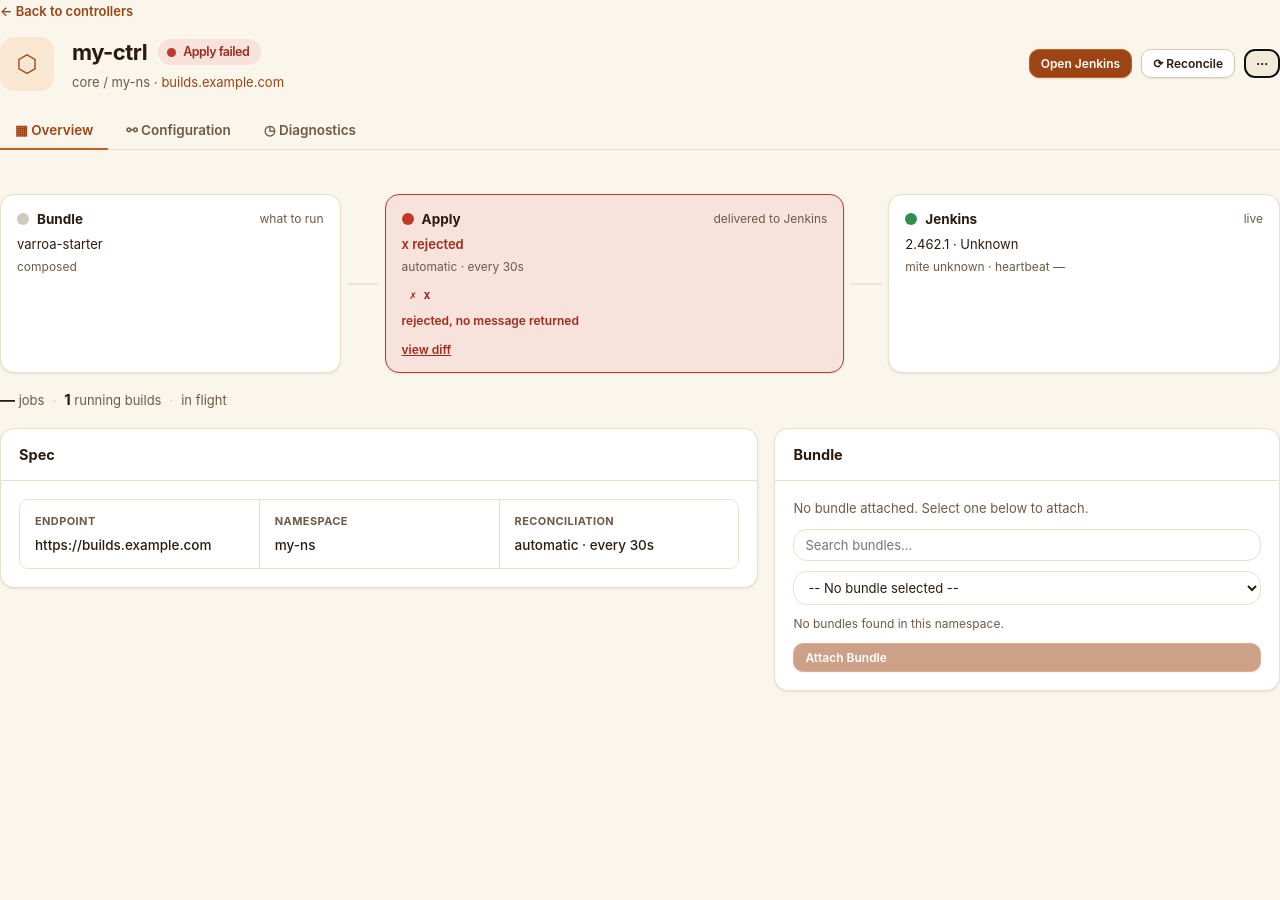
Test: ControllerDetail — Confirm copy (8.2) › singular blast-radius with runningBuilds=1
Click the button named "more actions": click(1262, 64) [1244, 49, 1279, 78]
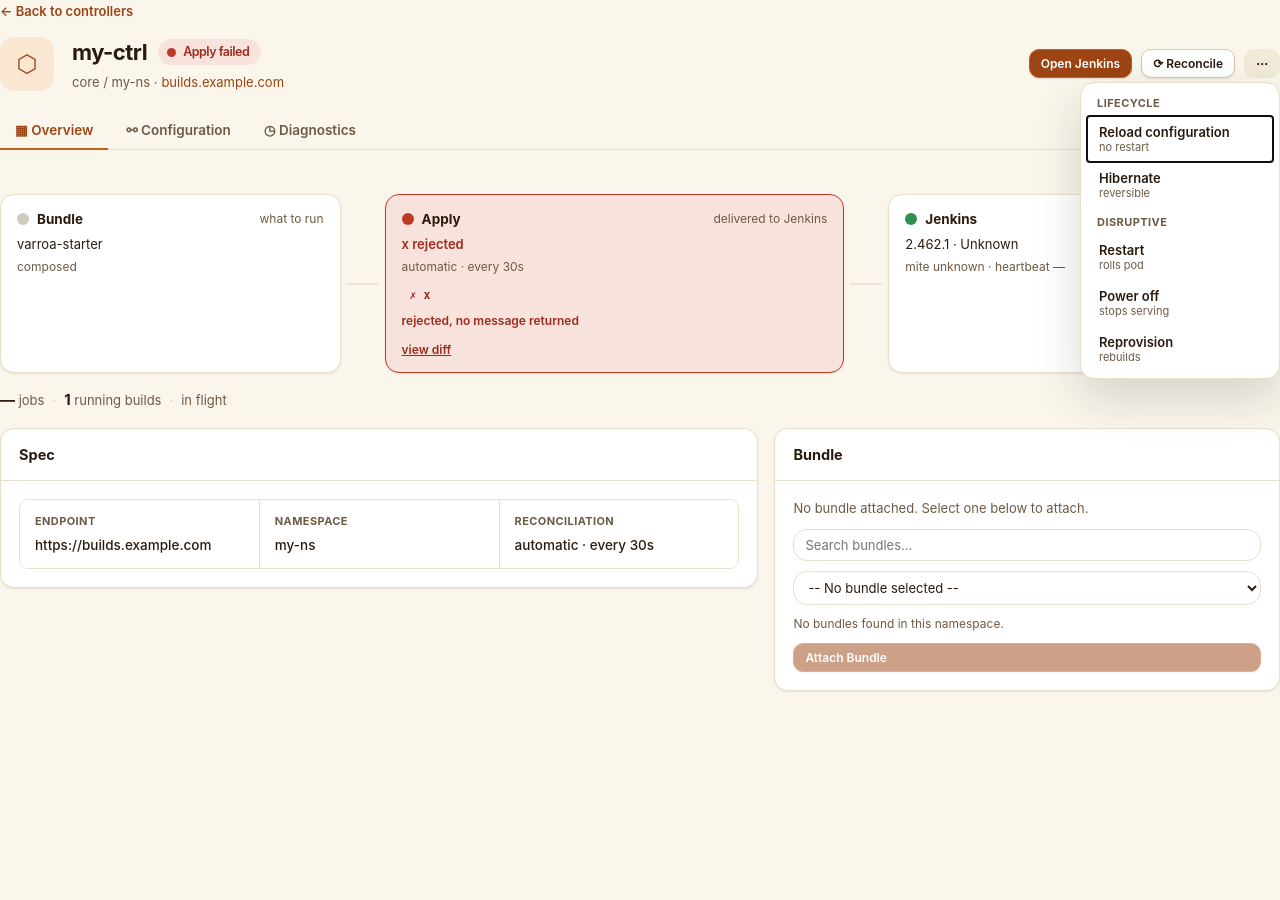
Click the menu item "Restart rolls pod": click(1180, 257) [1087, 234, 1273, 280]
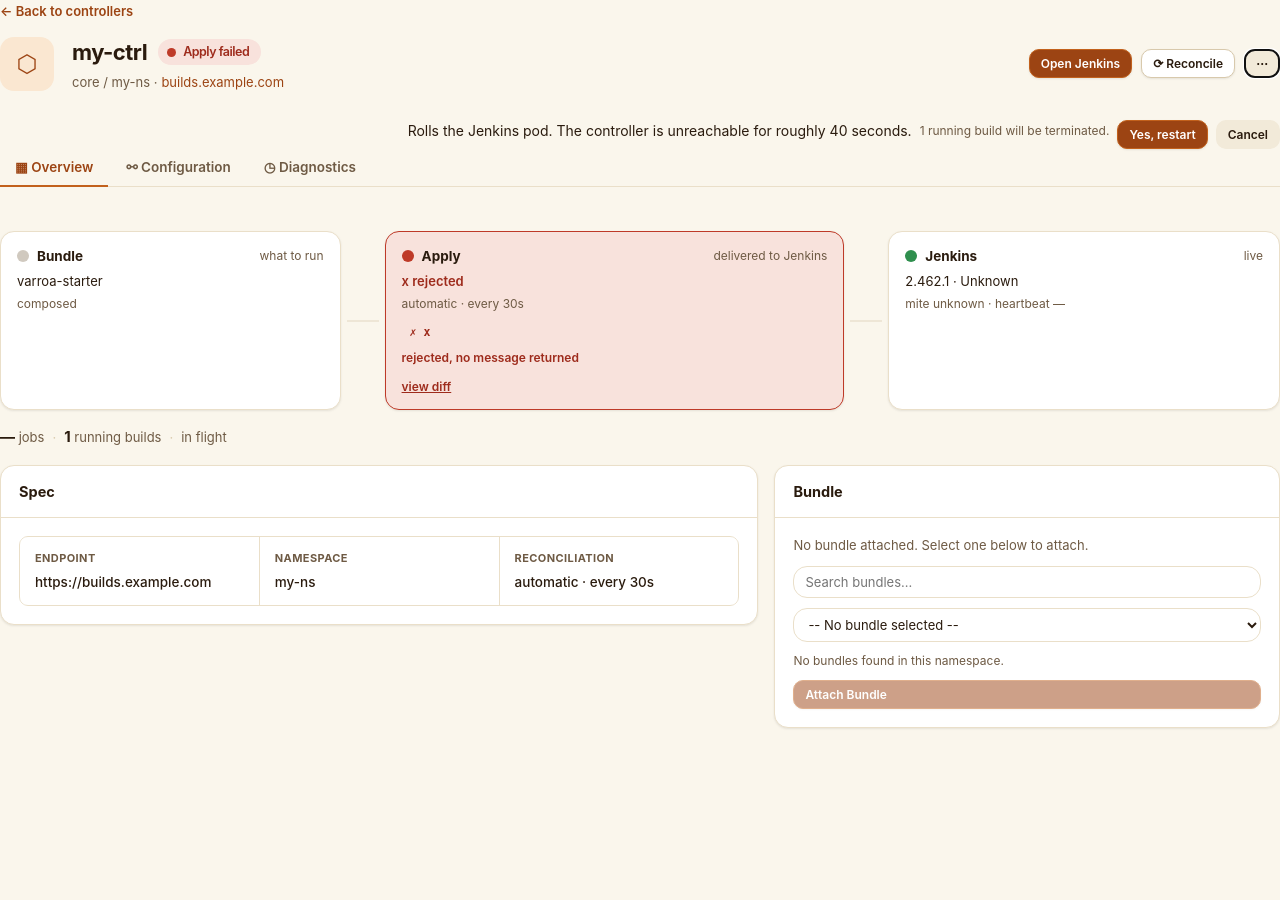
Result: the text "1 running build will be terminated." is shown at [920, 122, 1110, 140]
